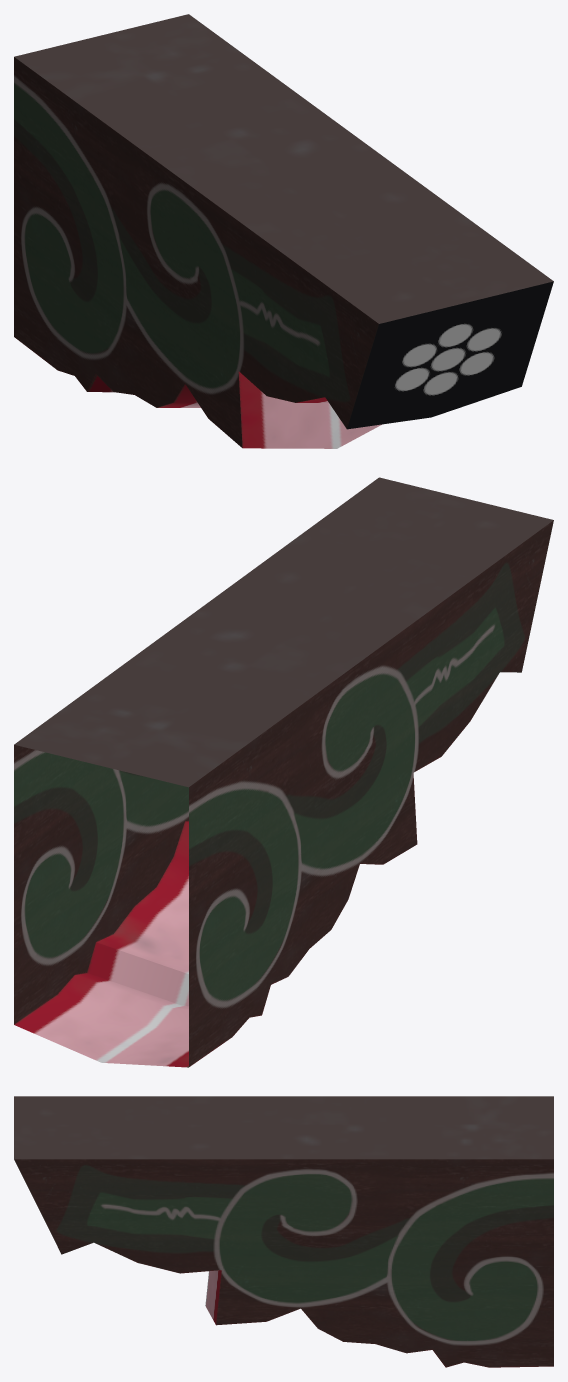
Rendered from SM_Gongpo01b.fbx.
The picture shows the model from 3 angles, top to bottom: view 1: azimuth 30°, elevation 25°; view 2: azimuth 150°, elevation 25°; view 3: azimuth 270°, elevation 25°; orthographic projection. The views are drawn at different scales.
Parts seen in each view (by area): view 1: SM_Gongpo01b; view 2: SM_Gongpo01b; view 3: SM_Gongpo01b.
Part boxes in pixels (left/top/right/bottom): SM_Gongpo01b: left=14, top=14, right=553, bottom=448; SM_Gongpo01b: left=14, top=477, right=553, bottom=1067; SM_Gongpo01b: left=14, top=1096, right=553, bottom=1367.
Size of the model in its own units: 10 by 36.17 by 16.3.
Materials: 1 (1 with a texture image).
